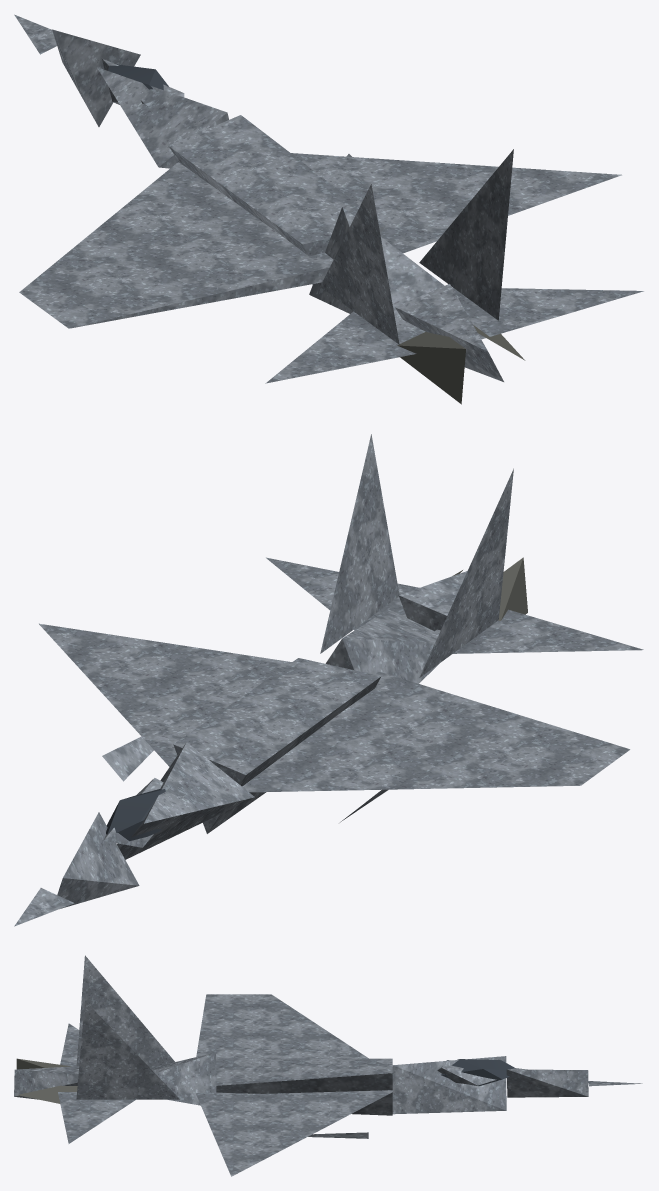
The model's file is air_e4_us_superiority_LOD2.glb.
3 renders of one model, top to bottom at view 1: azimuth 30°, elevation 25°; view 2: azimuth 150°, elevation 25°; view 3: azimuth 270°, elevation 25°, orthographic. The views are drawn at different scales.
Parts seen in each view (by area): view 1: air_e4_us_superiority_LOD2_body, air_e4_us_superiority_LOD2_gun, air_e4_us_superiority_LOD2_glass; view 2: air_e4_us_superiority_LOD2_body, air_e4_us_superiority_LOD2_glass, air_e4_us_superiority_LOD2_gun; view 3: air_e4_us_superiority_LOD2_body, air_e4_us_superiority_LOD2_glass, air_e4_us_superiority_LOD2_gun.
Boxes of the visible parts, bbox=[...] form: air_e4_us_superiority_LOD2_body: bbox=[14, 14, 643, 383]; air_e4_us_superiority_LOD2_gun: bbox=[397, 325, 525, 404]; air_e4_us_superiority_LOD2_glass: bbox=[108, 64, 168, 90]; air_e4_us_superiority_LOD2_body: bbox=[14, 434, 643, 926]; air_e4_us_superiority_LOD2_glass: bbox=[106, 789, 165, 841]; air_e4_us_superiority_LOD2_gun: bbox=[453, 557, 527, 620]; air_e4_us_superiority_LOD2_body: bbox=[14, 955, 642, 1176]; air_e4_us_superiority_LOD2_glass: bbox=[441, 1059, 515, 1086]; air_e4_us_superiority_LOD2_gun: bbox=[16, 1058, 77, 1103].
Bounding box in the file's own units: 13.32 × 4.69 × 19.43.
Materials: 3 (1 with a texture image).
